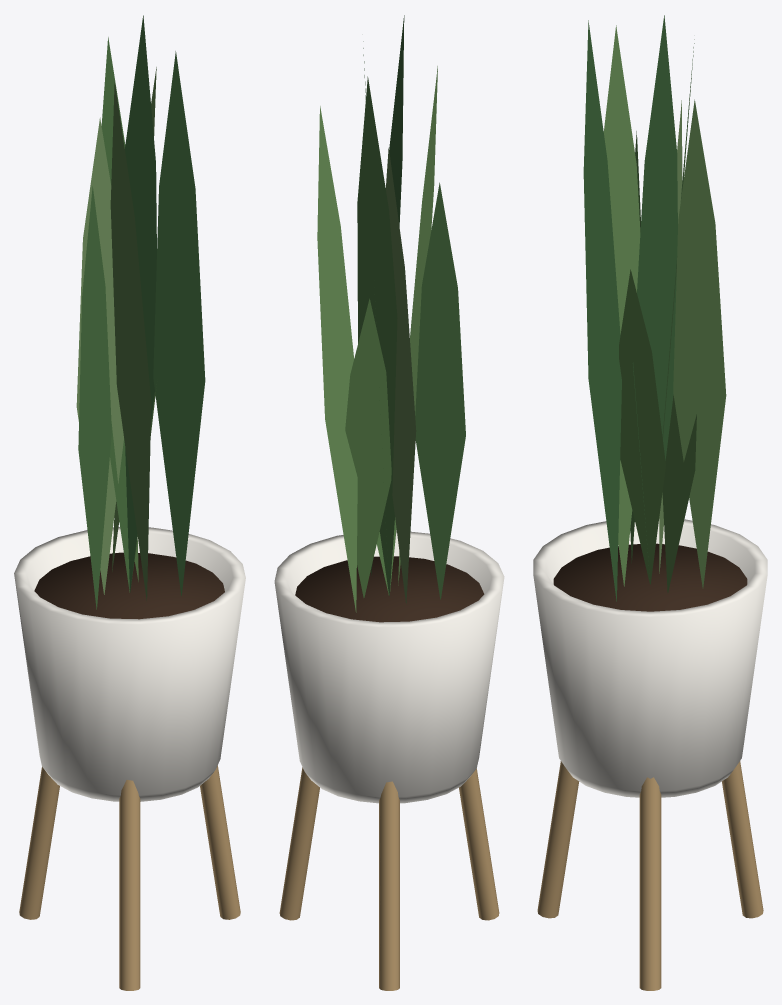
File: i_plant_1.glb
3 views of the same model, side by side, from view 1: azimuth 30°, elevation 25°; view 2: azimuth 150°, elevation 25°; view 3: azimuth 270°, elevation 25° (orthographic). The views are drawn at different scales.
Parts seen in each view (by area): view 1: o.003, o.013, o.012, o.010, o.004, o.008, o.009, o.002, o, o.001, o.005; view 2: o.003, o.010, o.007, o.005, o.004, o.006, o.009, o.001, o.002, o, o.012, o.013; view 3: o.003, o.007, o.013, o.008, o.004, o.011, o.012, o, o.006, o.001, o.002, o.009.
Part boxes in pixels (x1=…): o.003: x1=14, y1=527, x2=245, y2=801; o.013: x1=153, y1=51, x2=205, y2=595; o.012: x1=110, y1=82, x2=151, y2=600; o.010: x1=78, y1=186, x2=111, y2=609; o.004: x1=34, y1=552, x2=224, y2=619; o.008: x1=125, y1=15, x2=156, y2=592; o.009: x1=76, y1=117, x2=123, y2=594; o.002: x1=119, y1=780, x2=140, y2=990; o: x1=200, y1=765, x2=240, y2=919; o.001: x1=19, y1=767, x2=59, y2=919; o.005: x1=101, y1=37, x2=129, y2=592; o.003: x1=274, y1=530, x2=504, y2=803; o.010: x1=415, y1=182, x2=465, y2=599; o.007: x1=317, y1=106, x2=357, y2=612; o.005: x1=357, y1=76, x2=397, y2=595; o.004: x1=295, y1=556, x2=484, y2=622; o.006: x1=345, y1=298, x2=391, y2=597; o.009: x1=385, y1=148, x2=416, y2=603; o.001: x1=379, y1=781, x2=399, y2=990; o.002: x1=459, y1=768, x2=499, y2=920; o: x1=279, y1=767, x2=319, y2=920; o.012: x1=398, y1=66, x2=437, y2=585; o.013: x1=371, y1=15, x2=404, y2=575; o.003: x1=533, y1=519, x2=767, y2=797; o.007: x1=673, y1=99, x2=726, y2=588; o.013: x1=583, y1=20, x2=621, y2=601; o.008: x1=632, y1=15, x2=677, y2=565; o.004: x1=553, y1=543, x2=747, y2=611; o.011: x1=619, y1=269, x2=665, y2=584; o.012: x1=603, y1=25, x2=640, y2=586; o: x1=639, y1=777, x2=661, y2=990; o.006: x1=662, y1=395, x2=696, y2=592; o.001: x1=722, y1=761, x2=763, y2=918; o.002: x1=537, y1=761, x2=579, y2=918; o.009: x1=659, y1=100, x2=682, y2=573.
Size of the model in its own units: 0.2294 by 0.9584 by 0.2178.
